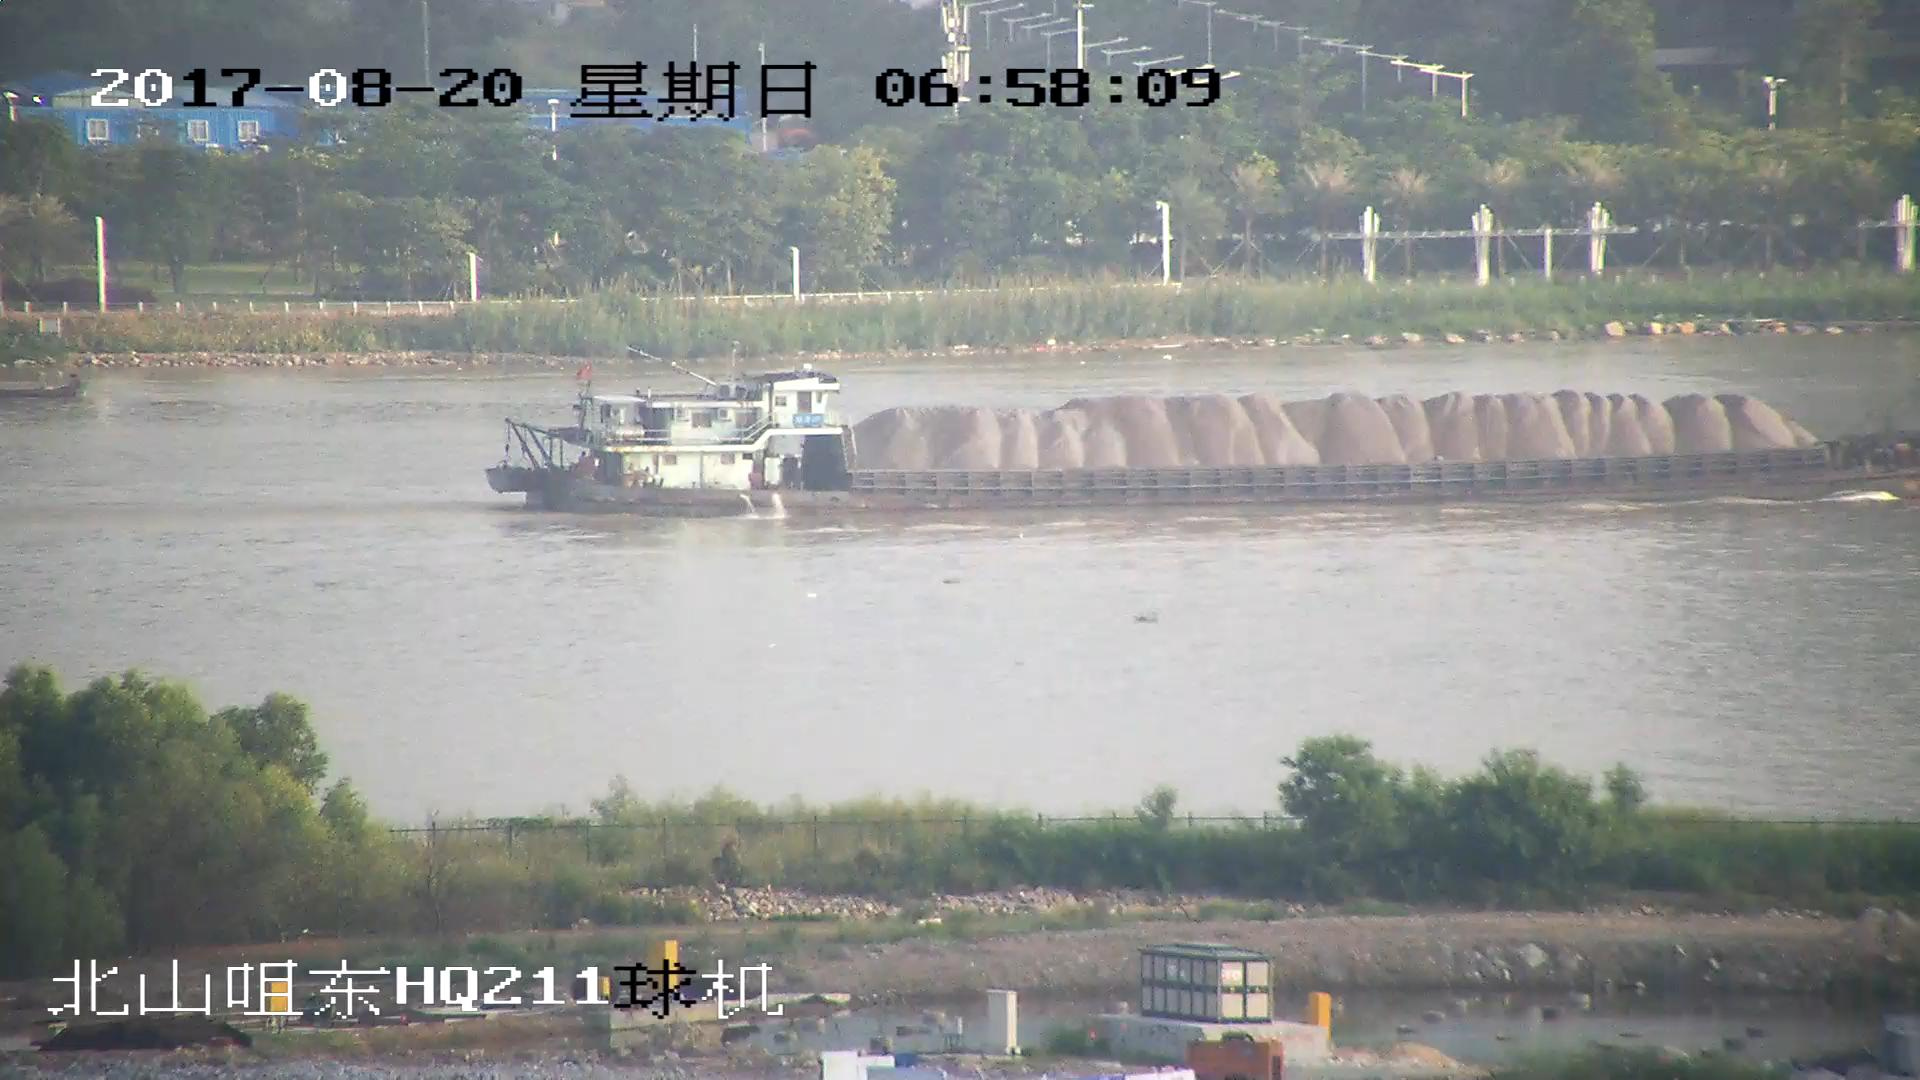fishing boat: (1, 368, 87, 400)
ore carrier: (481, 340, 1920, 520)
